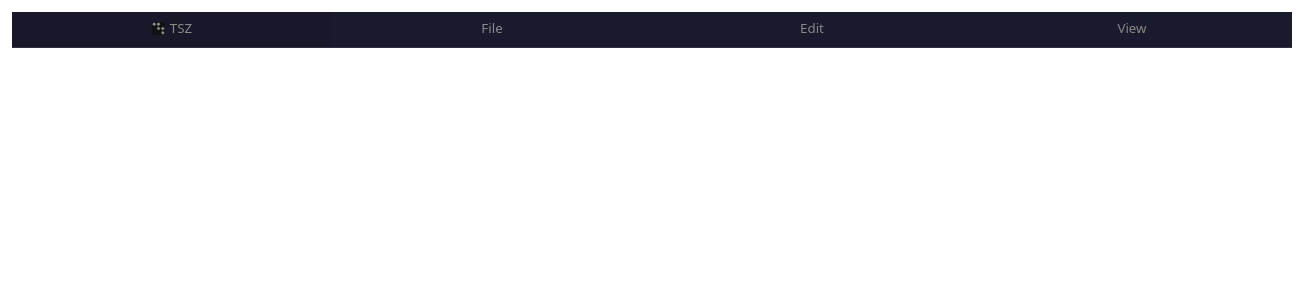
Test: clicking a different tab switches the open menu
Click the button "File" at (492, 30), box [332, 12, 652, 47]
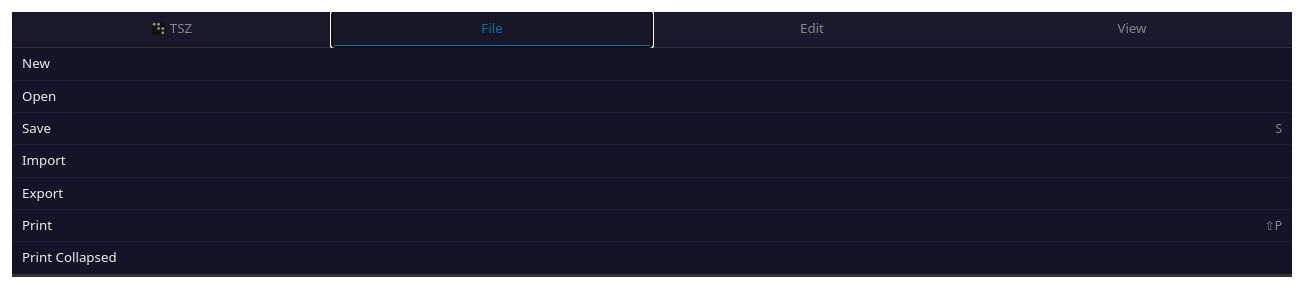
Now the text "New" is shown, box [22, 54, 50, 72]
Click the button "Edit" at (812, 30), box [652, 12, 972, 47]
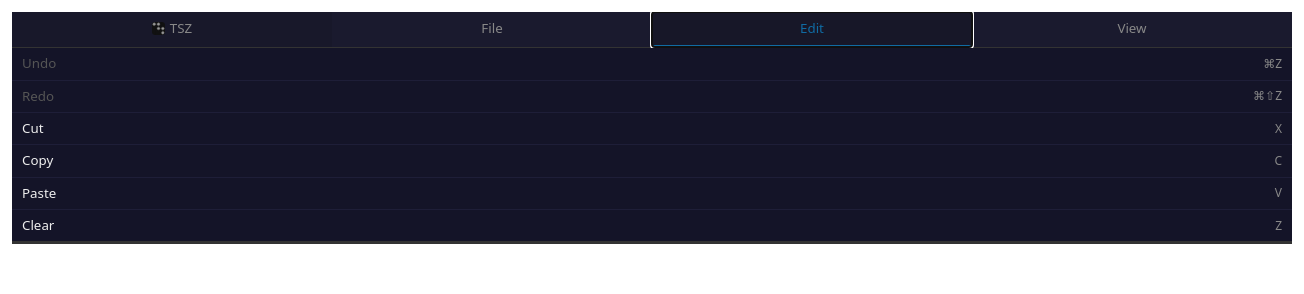
Now the text "New" is gone
Now the text "Undo" is shown, box [22, 54, 56, 72]
